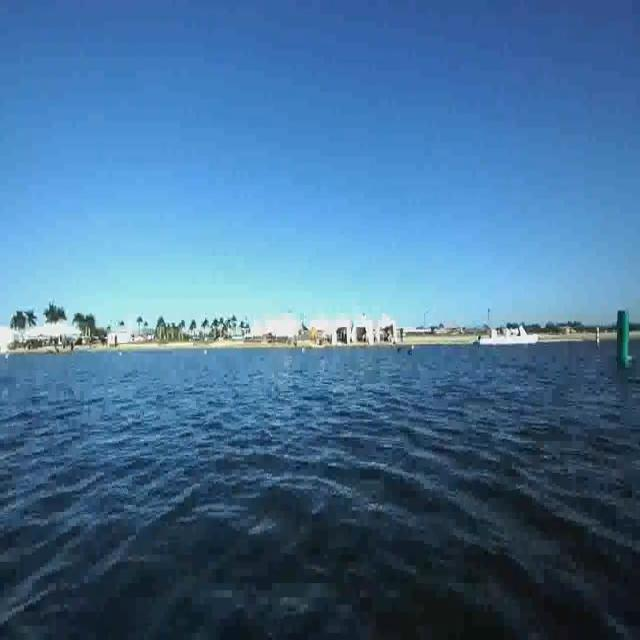green-column-buoy: (614, 307, 633, 365)
